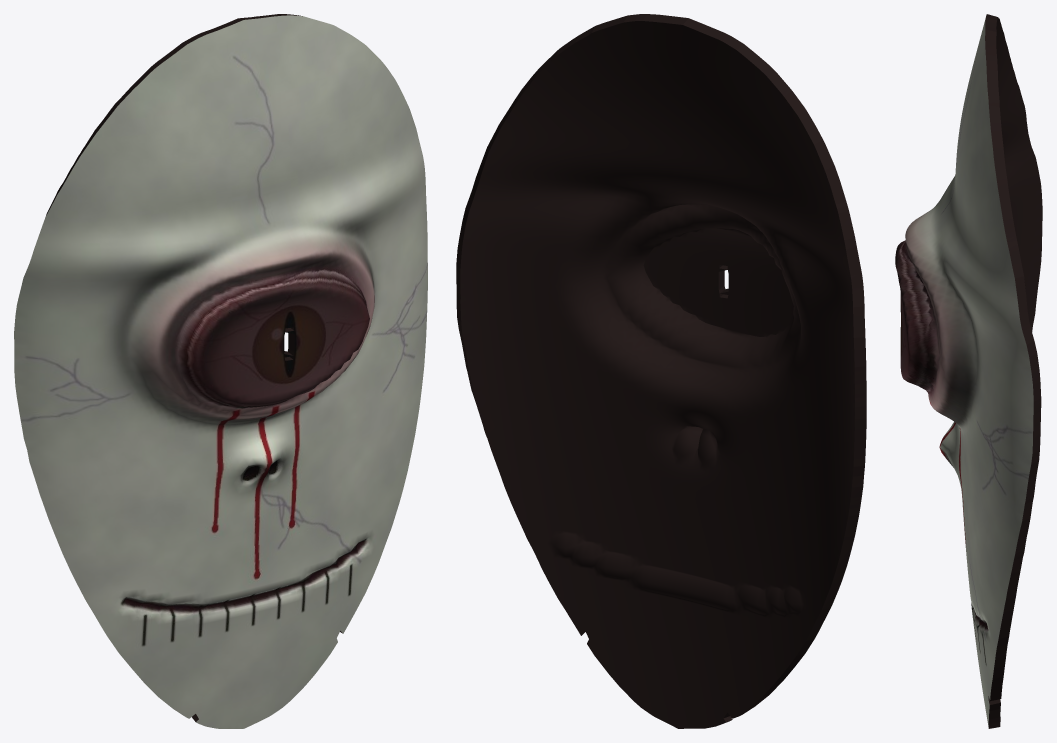
File: 一つ目_hitotsume.glb
3 views of the same model, side by side, from view 1: azimuth 30°, elevation 25°; view 2: azimuth 150°, elevation 25°; view 3: azimuth 270°, elevation 25° (orthographic). The views are drawn at different scales.
Parts seen in each view (by area): view 1: hitotsume; view 2: hitotsume; view 3: hitotsume.
Boxes of the visible parts, <box> form: hitotsume: <box>14,14,427,728</box>; hitotsume: <box>456,14,866,728</box>; hitotsume: <box>895,14,1042,728</box>.
Bounding box in the file's own units: 0.1796 × 0.2956 × 0.0571.
1 material, 1 textured.
